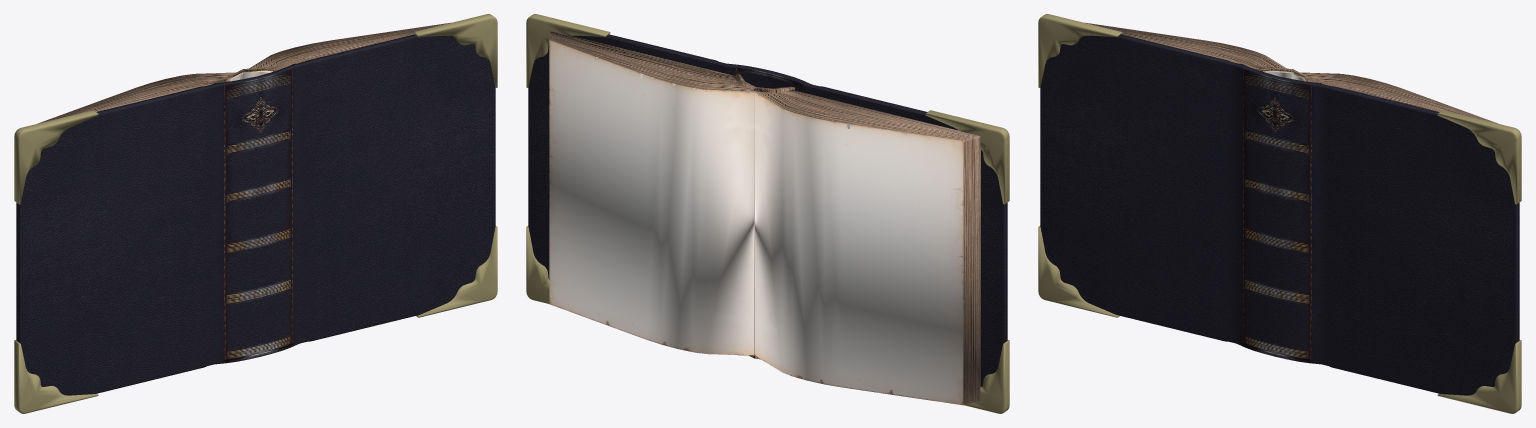
The model's file is Book.fbx.
3 renders of one model, left to right at view 1: azimuth 30°, elevation 25°; view 2: azimuth 150°, elevation 25°; view 3: azimuth 330°, elevation 25°, orthographic.
Parts seen in each view (by area): view 1: Book_Cover, Book_Page; view 2: Book_Page, Book_Cover; view 3: Book_Cover, Book_Page.
Boxes of the visible parts, x1,y1,x2,y2 form: Book_Cover: (14,14,497,413); Book_Page: (38,22,450,123); Book_Page: (549,31,980,405); Book_Cover: (526,14,1009,413); Book_Cover: (1038,14,1521,413); Book_Page: (1085,22,1497,123).
Bounding box in the file's own units: 48.22 × 5.29 × 27.22.
